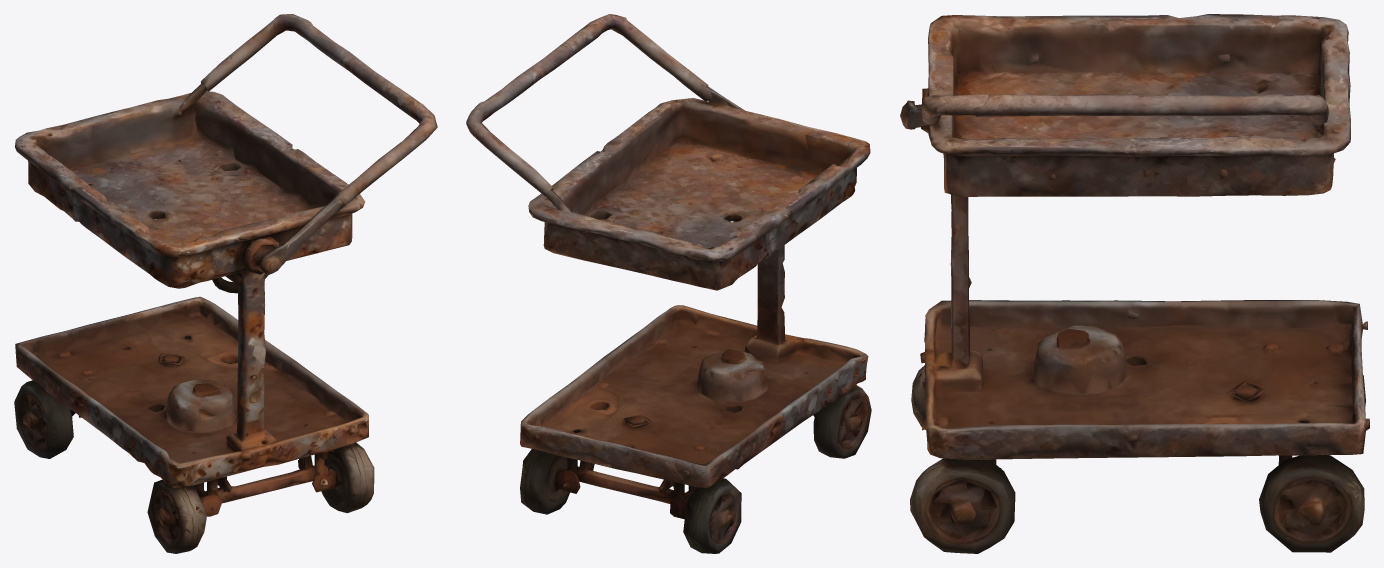
File: tripo_convert_3d29e979-17bf-4a6d-ba31-2288707d5567.fbx
The picture shows the model from 3 angles, left to right: view 1: azimuth 30°, elevation 25°; view 2: azimuth 150°, elevation 25°; view 3: azimuth 270°, elevation 25°; orthographic projection. The views are drawn at different scales.
Parts seen in each view (by area): view 1: tripo_node_3d29e979; view 2: tripo_node_3d29e979; view 3: tripo_node_3d29e979.
Boxes of the visible parts, <box> form: tripo_node_3d29e979: <box>14,14,437,553</box>; tripo_node_3d29e979: <box>466,14,871,553</box>; tripo_node_3d29e979: <box>900,14,1369,553</box>.
Size of the model in its own units: 0.7588 by 1 by 0.8378.
1 material, 1 textured.
